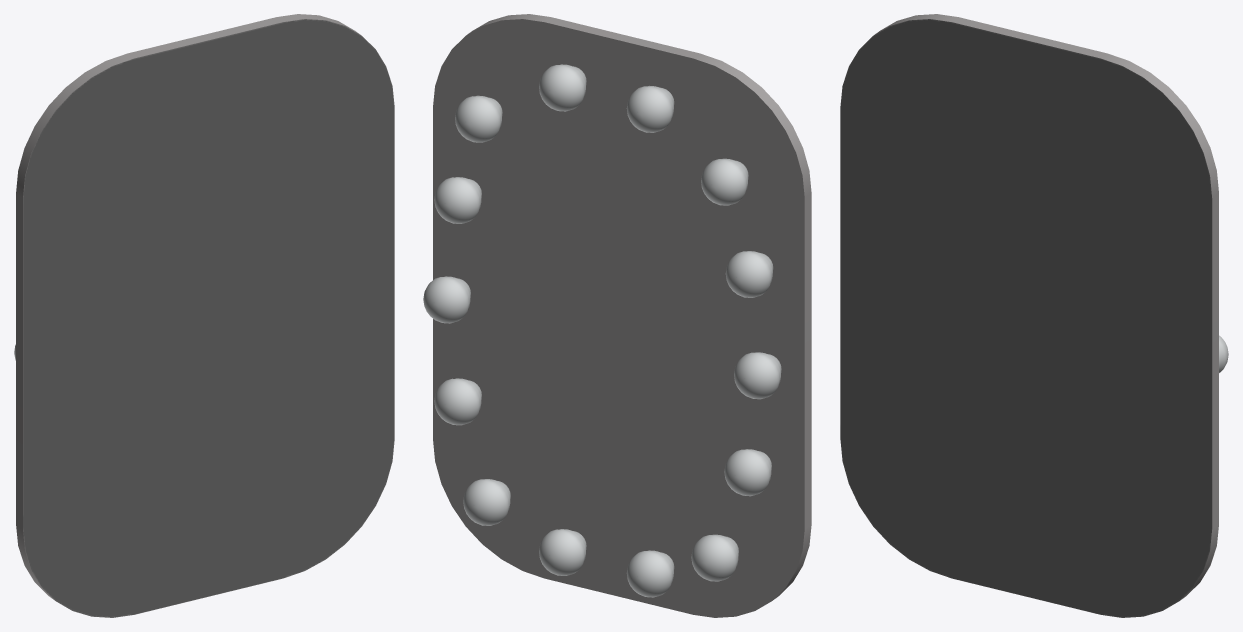
The model's file is mirorr1.fbx.
3 renders of one model, left to right at view 1: azimuth 30°, elevation 25°; view 2: azimuth 150°, elevation 25°; view 3: azimuth 330°, elevation 25°, orthographic.
Visible parts, largest first — view 1: miroor; view 2: miroor; view 3: miroor.
Boxes of the visible parts, x1,y1,x2,y2 form: miroor: [14, 14, 394, 617]; miroor: [423, 14, 811, 617]; miroor: [840, 14, 1228, 617].
Bounding box in the file's own units: 1.32 × 1.89 × 0.1914.
